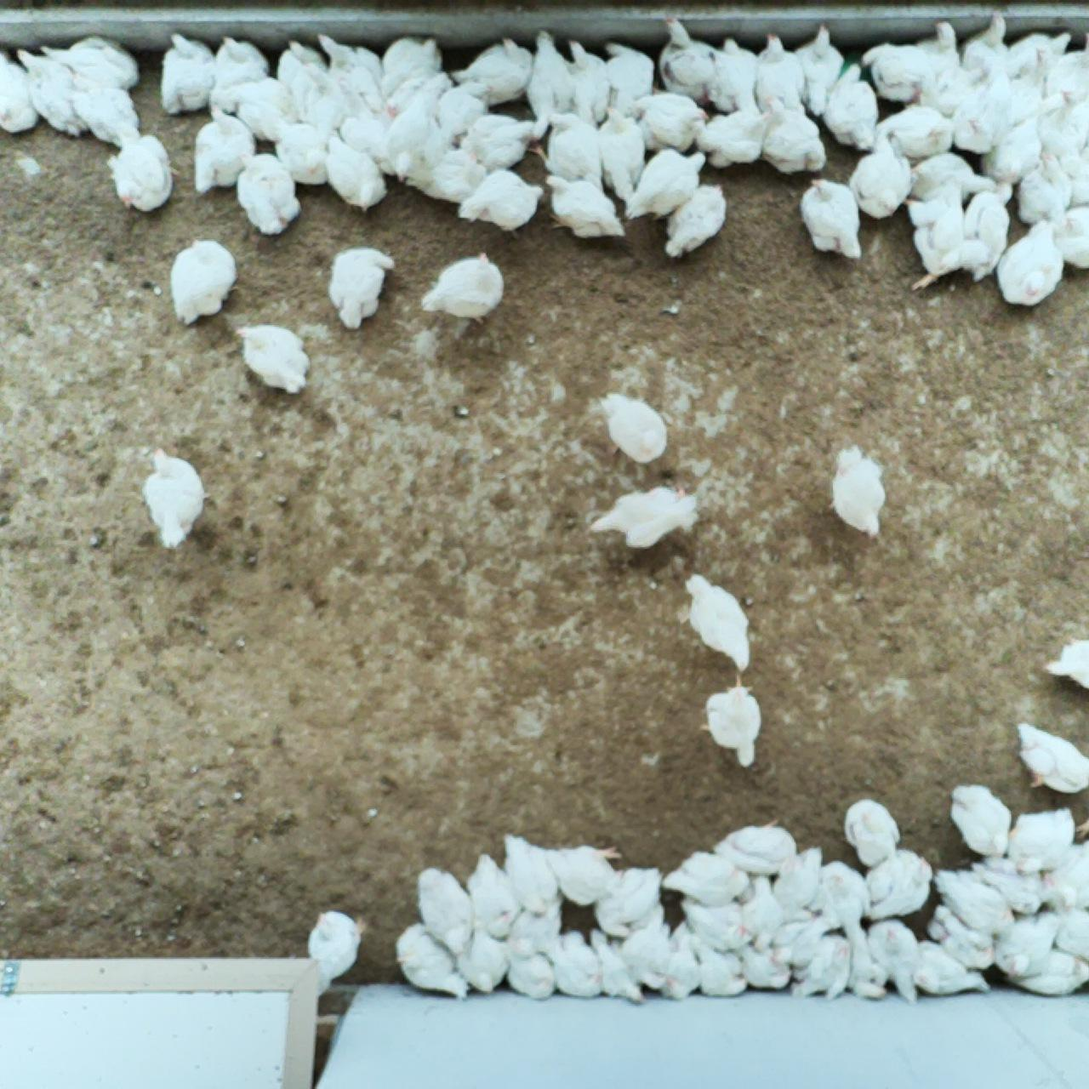chicken: (907, 178, 997, 298), (583, 473, 697, 554), (137, 442, 217, 555), (682, 570, 758, 677), (816, 438, 890, 541), (415, 246, 509, 327), (698, 670, 768, 776), (166, 235, 242, 332), (991, 217, 1067, 312), (12, 44, 88, 138), (105, 117, 178, 214), (324, 242, 399, 336), (451, 32, 540, 108), (38, 31, 142, 96), (955, 178, 1017, 287), (454, 167, 545, 241), (232, 318, 314, 400), (627, 146, 710, 227), (931, 863, 1016, 942), (412, 862, 478, 962), (391, 917, 468, 1002), (191, 102, 259, 198), (304, 905, 372, 1000), (527, 111, 605, 192), (542, 171, 628, 244), (846, 133, 915, 223), (595, 387, 672, 466), (496, 827, 560, 922), (1013, 718, 1089, 796), (594, 864, 667, 945), (237, 149, 304, 237), (662, 180, 732, 264), (760, 92, 828, 178), (711, 813, 802, 877), (798, 177, 865, 262), (865, 915, 925, 1009), (866, 845, 939, 922), (821, 61, 880, 156), (946, 779, 1013, 862), (156, 27, 217, 117), (657, 16, 717, 107), (631, 87, 710, 156), (324, 133, 391, 214), (1009, 804, 1080, 879), (873, 102, 956, 166), (969, 851, 1048, 918), (912, 936, 992, 1002), (901, 148, 1000, 201), (585, 925, 648, 1008), (465, 849, 521, 942), (926, 901, 998, 973), (693, 106, 774, 170), (546, 842, 624, 908), (597, 103, 648, 202), (980, 115, 1052, 185), (207, 32, 268, 114), (951, 75, 1012, 157), (661, 845, 745, 904), (383, 102, 447, 179), (222, 77, 301, 139), (792, 23, 844, 117), (857, 41, 932, 106), (992, 908, 1060, 978), (524, 30, 578, 118), (839, 795, 903, 868), (265, 113, 329, 184), (70, 81, 142, 144), (381, 31, 450, 96), (1017, 149, 1076, 225), (753, 31, 807, 113), (412, 140, 485, 199), (564, 36, 614, 121), (462, 112, 539, 167), (602, 39, 657, 116), (808, 857, 866, 930), (657, 916, 704, 1005), (1012, 944, 1089, 998), (619, 914, 669, 996), (792, 933, 854, 999), (549, 928, 605, 1001), (314, 29, 379, 91), (775, 843, 826, 922), (507, 893, 568, 959), (0, 47, 43, 139), (732, 872, 784, 948), (712, 37, 762, 114), (456, 926, 509, 998), (335, 74, 389, 144), (679, 894, 743, 952), (433, 81, 498, 136), (960, 8, 1014, 74), (1045, 838, 1089, 918), (275, 36, 329, 99), (1038, 88, 1089, 153), (1035, 632, 1089, 693), (691, 946, 753, 999), (921, 20, 963, 95), (300, 63, 344, 130), (503, 948, 557, 1002), (1043, 34, 1089, 97), (769, 921, 828, 970), (1011, 48, 1051, 120), (1047, 890, 1089, 957), (934, 64, 989, 113), (1051, 204, 1089, 273), (741, 945, 791, 995), (849, 937, 889, 999), (1005, 31, 1075, 65), (385, 71, 430, 116), (1058, 146, 1089, 202)
